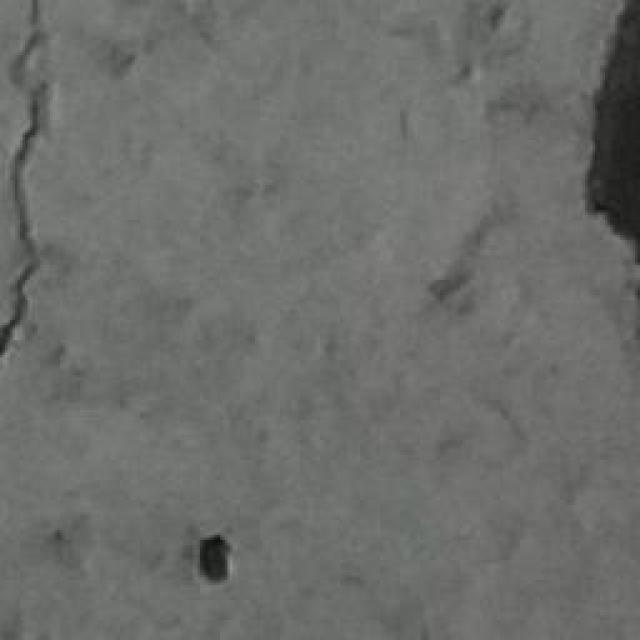Annular: (566, 0, 640, 258), (186, 522, 253, 610)
Longitudinal: (0, 0, 70, 370)
